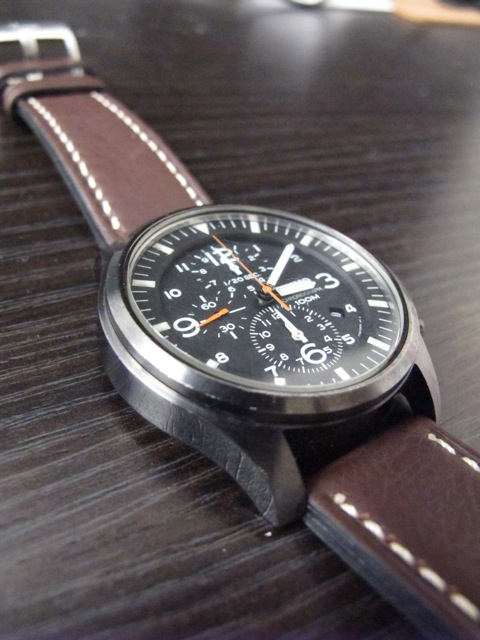clock: (100, 204, 422, 425)
